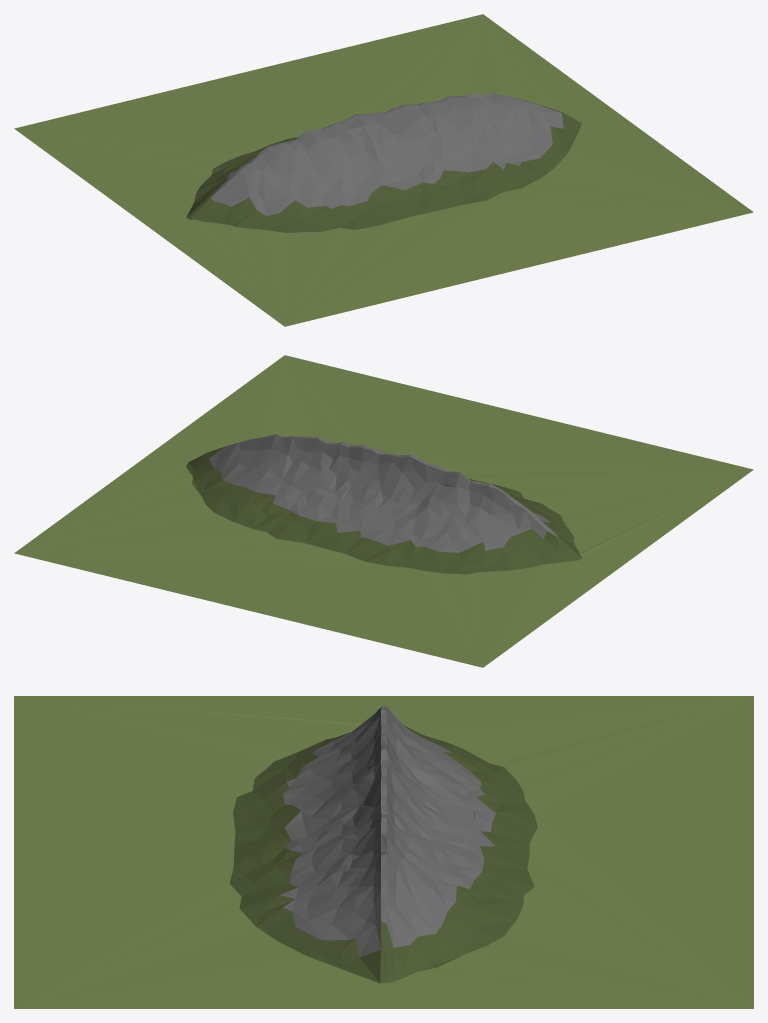
The model's file is Terrain_05.fbx.
The picture shows the model from 3 angles, top to bottom: view 1: azimuth 30°, elevation 25°; view 2: azimuth 150°, elevation 25°; view 3: azimuth 270°, elevation 25°; orthographic projection. The views are drawn at different scales.
Parts seen in each view (by area): view 1: Terrain_05; view 2: Terrain_05; view 3: Terrain_05.
Boxes of the visible parts, left/top/right/bottom form: Terrain_05: left=14, top=14, right=753, bottom=326; Terrain_05: left=14, top=355, right=753, bottom=667; Terrain_05: left=14, top=696, right=753, bottom=1008.
Size of the model in its own units: 20000 by 2551 by 20000.
